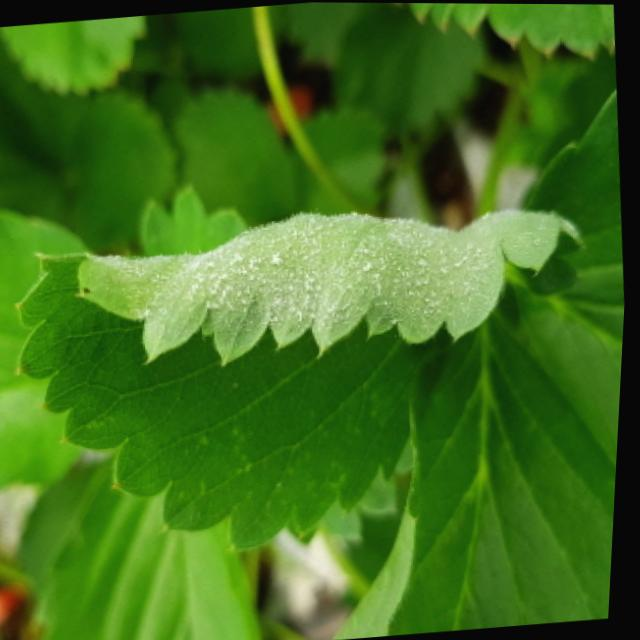Powdery Mildew Leaf: (17, 207, 589, 554)
